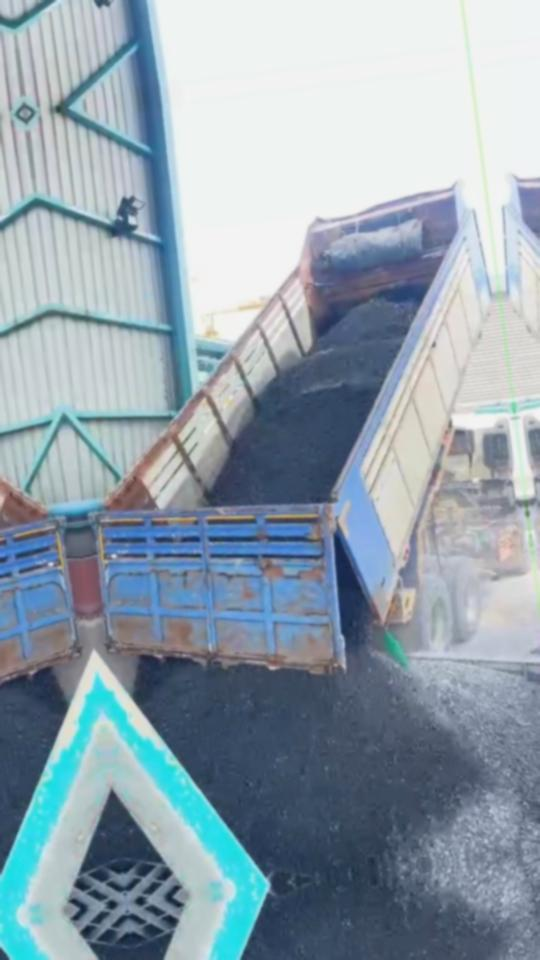gravel: (138, 645, 540, 876), (212, 298, 417, 504), (115, 803, 151, 857)
